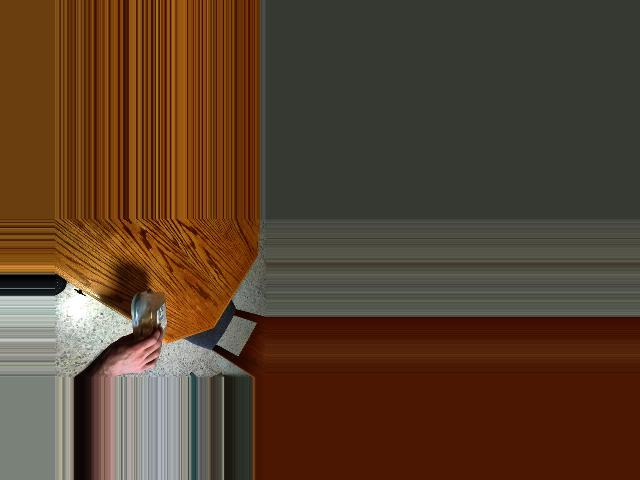cheese: (117, 285, 176, 351)
